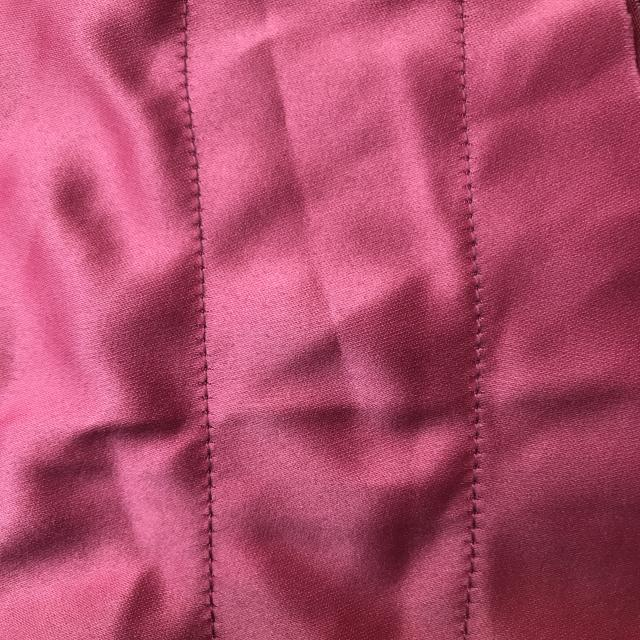good: (176, 255, 245, 476), (458, 237, 506, 425)
